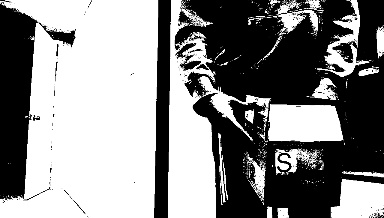S: (274, 149, 297, 171)
